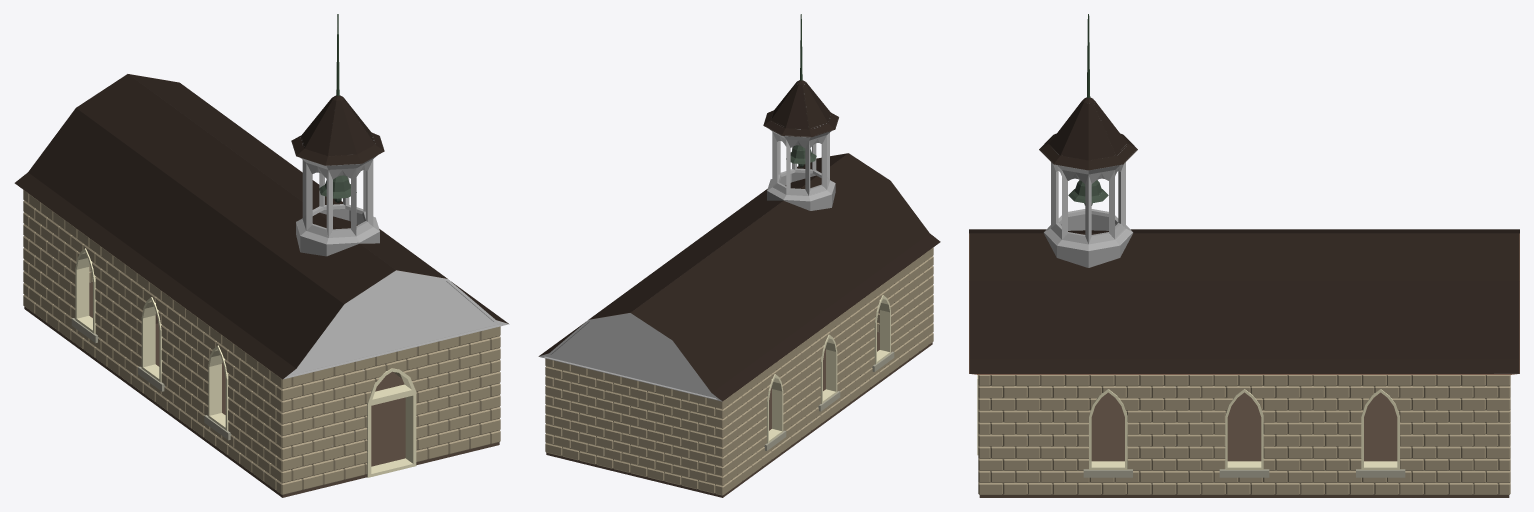
Rendered from IJsseldorpChurch.fbx.
3 renders of one model, left to right at view 1: azimuth 30°, elevation 25°; view 2: azimuth 150°, elevation 25°; view 3: azimuth 270°, elevation 25°, orthographic. The views are drawn at different scales.
Parts seen in each view (by area): view 1: Roof, Church, Spire; view 2: Roof, Church, Spire; view 3: Roof, Church, Spire.
Part boxes in pixels (box(x1,y1,x2,y2)): Roof: box(14, 74, 509, 379); Church: box(23, 190, 500, 497); Spire: box(291, 14, 384, 256); Roof: box(538, 153, 940, 401); Church: box(545, 247, 933, 497); Spire: box(763, 14, 838, 210); Roof: box(969, 229, 1519, 374); Church: box(977, 375, 1510, 497); Spire: box(1039, 14, 1137, 267).
Bounding box in the file's own units: 1086 × 1914 × 2225.
Materials: 3 (3 with a texture image).
